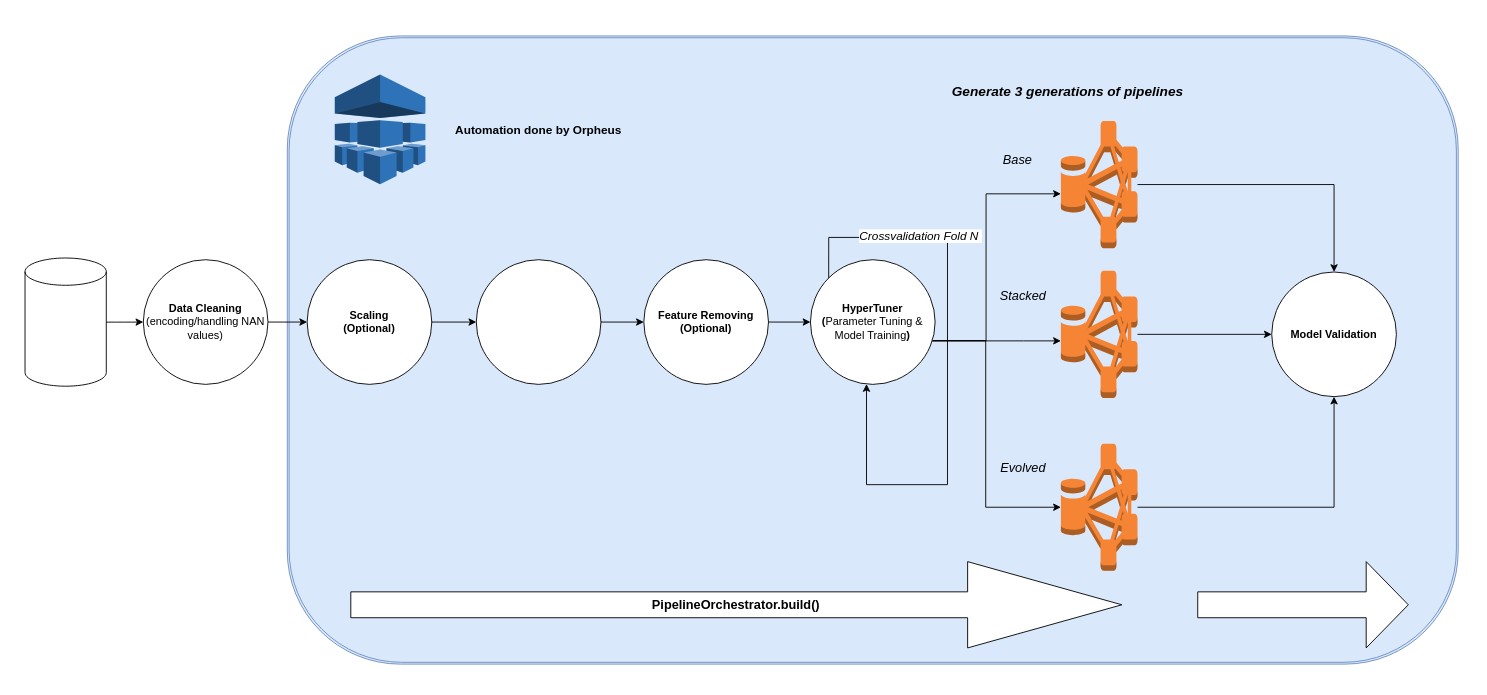
Some shapes in this 1487 by 695 pixel diagram are drawn without their labels. Each missing label, with the centre of its shape:
"Feature Adding (Optional)" goes at pixel 538 321.
"PipelineOrchestrator.fortify()" goes at pixel 1302 604.
"Raw Data" goes at pixel 65 321.
